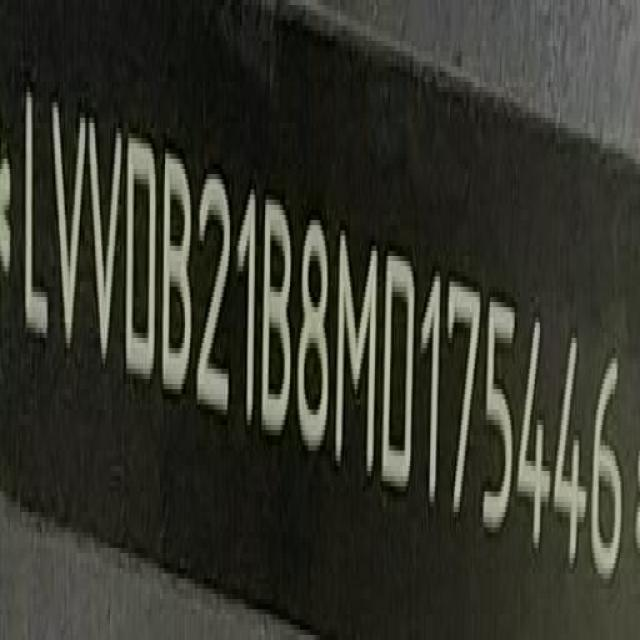1: (419, 270, 441, 514), (235, 187, 257, 429)
2: (200, 174, 233, 421)
4: (552, 329, 587, 577), (521, 314, 552, 560)
5: (484, 289, 514, 545)
6: (595, 344, 626, 586)
7: (451, 275, 482, 532)
8: (298, 213, 332, 449)
B: (162, 149, 194, 399), (262, 193, 294, 439)
D: (385, 246, 420, 500), (126, 128, 160, 380)
L: (21, 81, 50, 345)
M: (336, 226, 380, 480)
V: (50, 92, 86, 359), (89, 110, 125, 376)
